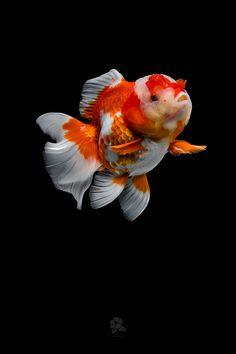goldfish: (34, 62, 213, 225)
